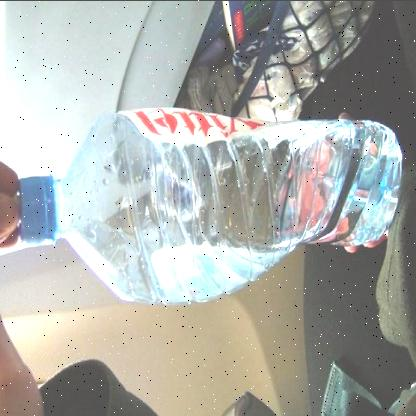Plastic Bottle: (20, 107, 403, 303)
